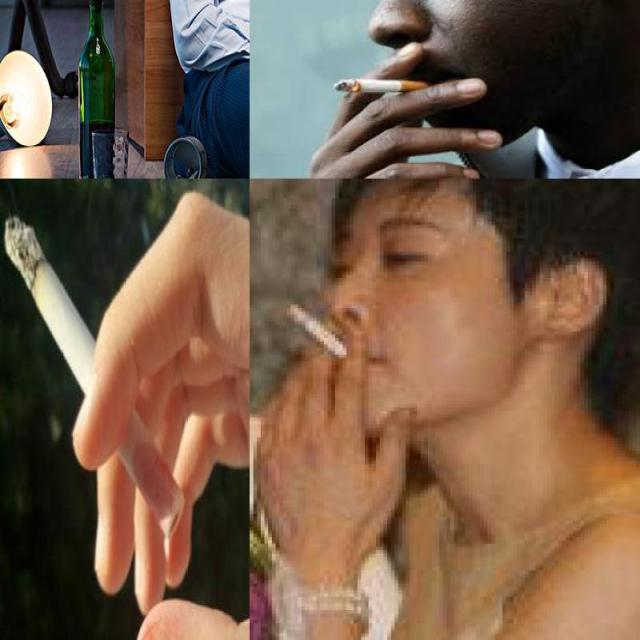smoke: (2, 212, 186, 536), (268, 284, 354, 366), (334, 78, 433, 95)
